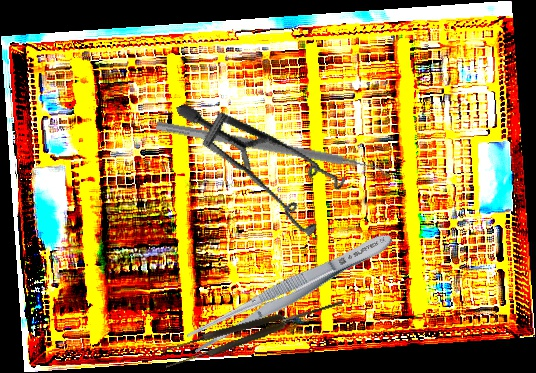Dressing Forceps: (184, 224, 398, 358)
Spatula Surgical: (154, 120, 390, 182)
Speculum: (175, 57, 361, 265)
Tissue Forceps: (160, 292, 347, 370)
